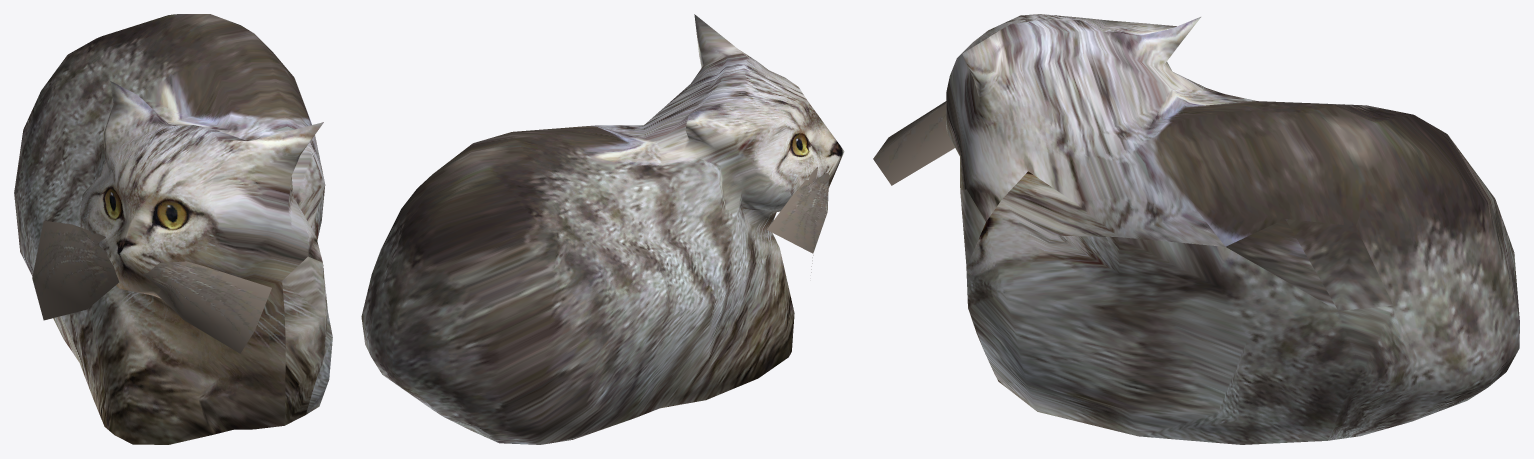
File: mars.glb
The picture shows the model from 3 angles, left to right: view 1: azimuth 30°, elevation 25°; view 2: azimuth 150°, elevation 25°; view 3: azimuth 270°, elevation 25°; orthographic projection. The views are drawn at different scales.
Parts seen in each view (by area): view 1: mars; view 2: mars; view 3: mars.
Boxes of the visible parts, bbox=[...] form: mars: bbox=[14, 14, 332, 444]; mars: bbox=[361, 14, 844, 444]; mars: bbox=[873, 14, 1519, 444].
Size of the model in its own units: 2.18 by 1.87 by 3.05.
Materials: 2 (2 with a texture image).
